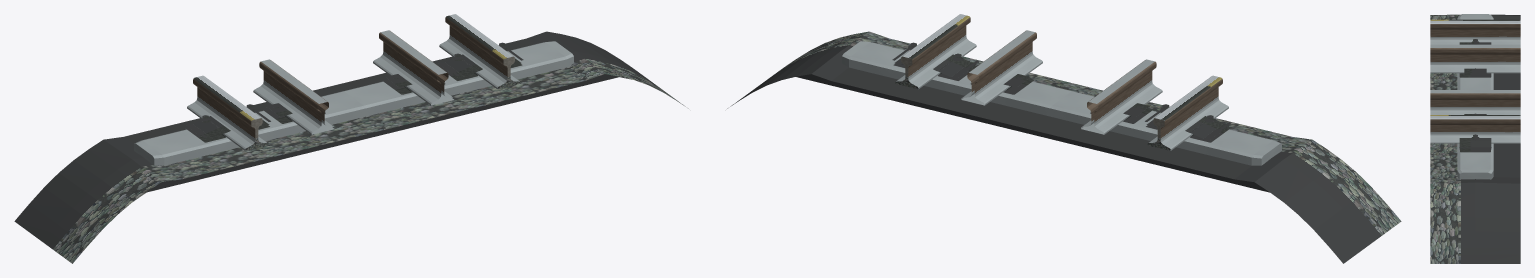
Rendered from center_guard_mid.obj.
3 views of the same model, side by side, from view 1: azimuth 30°, elevation 25°; view 2: azimuth 150°, elevation 25°; view 3: azimuth 270°, elevation 25° (orthographic). The views are drawn at different scales.
Parts seen in each view (by area): view 1: ballast, sleeper, center_guard_left, center_guard_right, rail_left, rail_right, fastener_left, fastener_right; view 2: ballast, sleeper, center_guard_left, center_guard_right, rail_left, rail_right, fastener_left, fastener_right; view 3: ballast, center_guard_left, rail_right, rail_left, center_guard_right, sleeper, fastener_right, center_fastener_left, fastener_left.
Boxes of the visible parts, x1=… form: ballast: x1=14, y1=31, x2=688, y2=263; sleeper: x1=134, y1=41, x2=573, y2=165; center_guard_left: x1=253, y1=59, x2=334, y2=134; center_guard_right: x1=373, y1=30, x2=454, y2=105; rail_left: x1=187, y1=75, x2=266, y2=150; rail_right: x1=439, y1=14, x2=519, y2=88; fastener_left: x1=184, y1=104, x2=270, y2=142; fastener_right: x1=437, y1=42, x2=523, y2=80; ballast: x1=727, y1=31, x2=1401, y2=263; sleeper: x1=842, y1=41, x2=1281, y2=165; center_guard_left: x1=1081, y1=59, x2=1162, y2=134; center_guard_right: x1=961, y1=30, x2=1042, y2=105; rail_left: x1=1149, y1=75, x2=1228, y2=150; rail_right: x1=896, y1=14, x2=976, y2=88; fastener_left: x1=1145, y1=104, x2=1231, y2=142; fastener_right: x1=892, y1=42, x2=978, y2=80; ballast: x1=1430, y1=14, x2=1520, y2=263; center_guard_left: x1=1430, y1=44, x2=1520, y2=73; rail_right: x1=1430, y1=115, x2=1520, y2=143; rail_left: x1=1430, y1=19, x2=1520, y2=44; center_guard_right: x1=1430, y1=90, x2=1520, y2=114; sleeper: x1=1457, y1=14, x2=1493, y2=179; fastener_right: x1=1459, y1=134, x2=1491, y2=152; center_fastener_left: x1=1459, y1=68, x2=1491, y2=77; fastener_left: x1=1459, y1=39, x2=1491, y2=44.
Size of the model in its own units: 3.7 by 0.5683 by 0.6.
